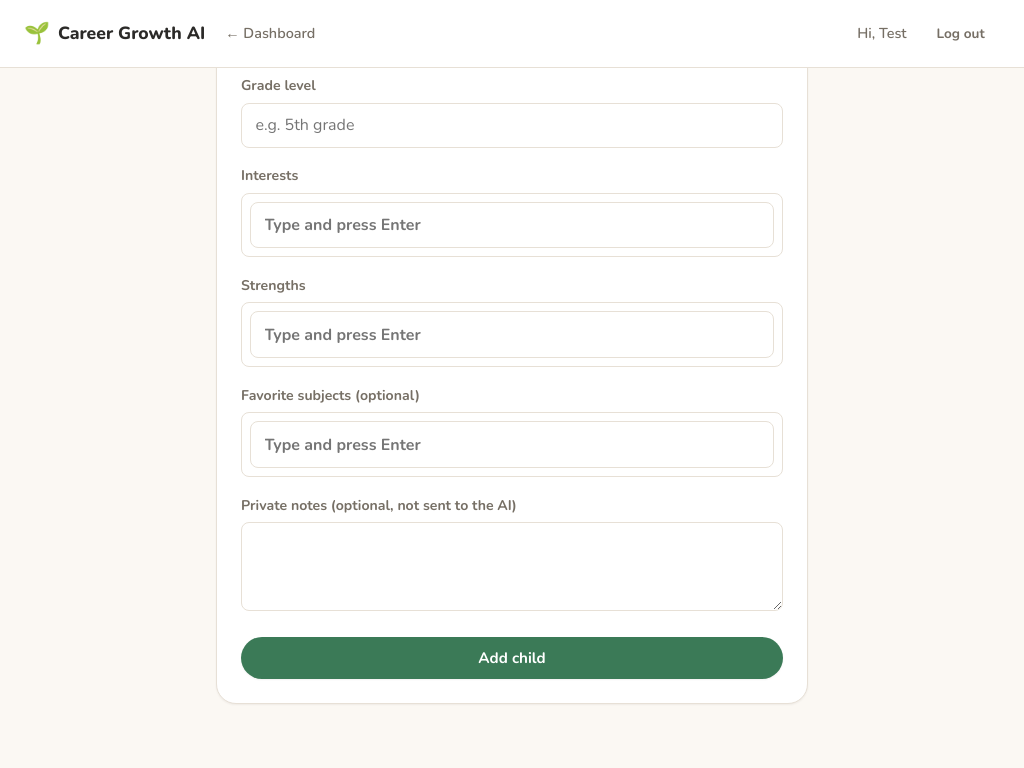
it: ChildFormPage validation › shows a required-field error and does not submit when first name is empty
The image size is (1024, 768).
(page scrolled)
Click the button "Add child": (512, 658) [241,637,783,679]
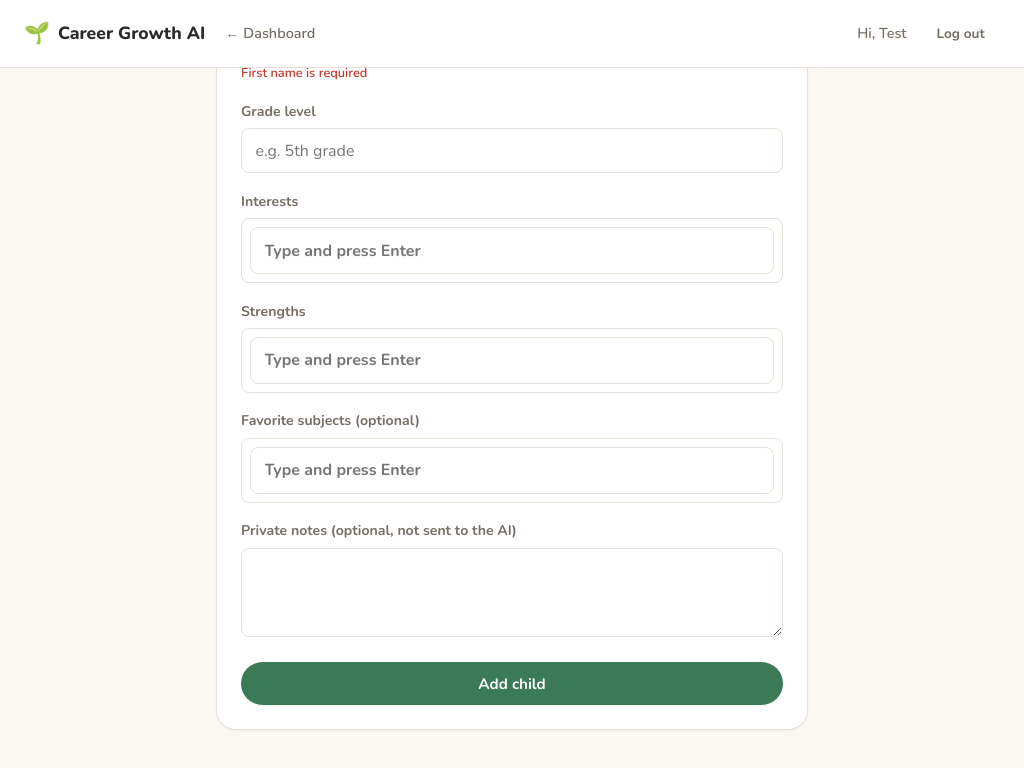
Check: the text "First name is required" is shown, box [241,64,367,82]
